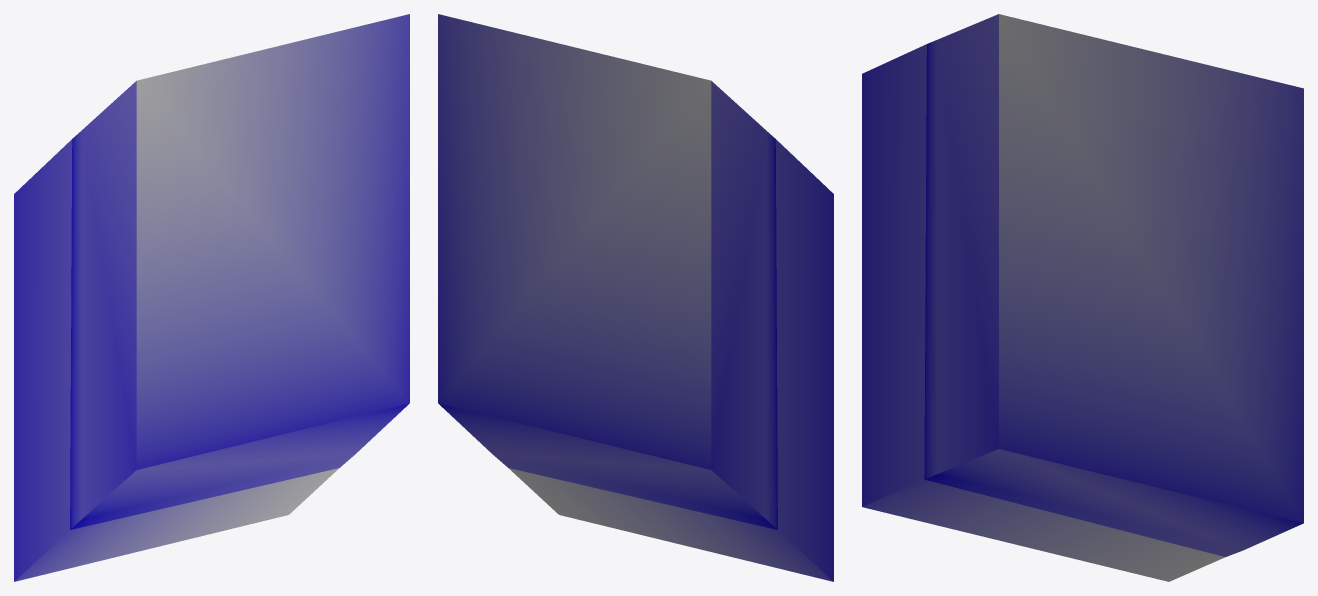
Rendered from InSideLie_V_Shadow.fbx.
3 views of the same model, side by side, from view 1: azimuth 30°, elevation 25°; view 2: azimuth 150°, elevation 25°; view 3: azimuth 330°, elevation 25° (orthographic). The views are drawn at different scales.
Parts seen in each view (by area): view 1: InSideLie_V_Shadow; view 2: InSideLie_V_Shadow; view 3: InSideLie_V_Shadow.
Boxes of the visible parts, x1,y1,x2,y2 form: InSideLie_V_Shadow: (14, 14, 409, 581); InSideLie_V_Shadow: (438, 14, 833, 581); InSideLie_V_Shadow: (862, 14, 1303, 581).
Size of the model in its own units: 5.29 by 6.02 by 1.17e-06.
